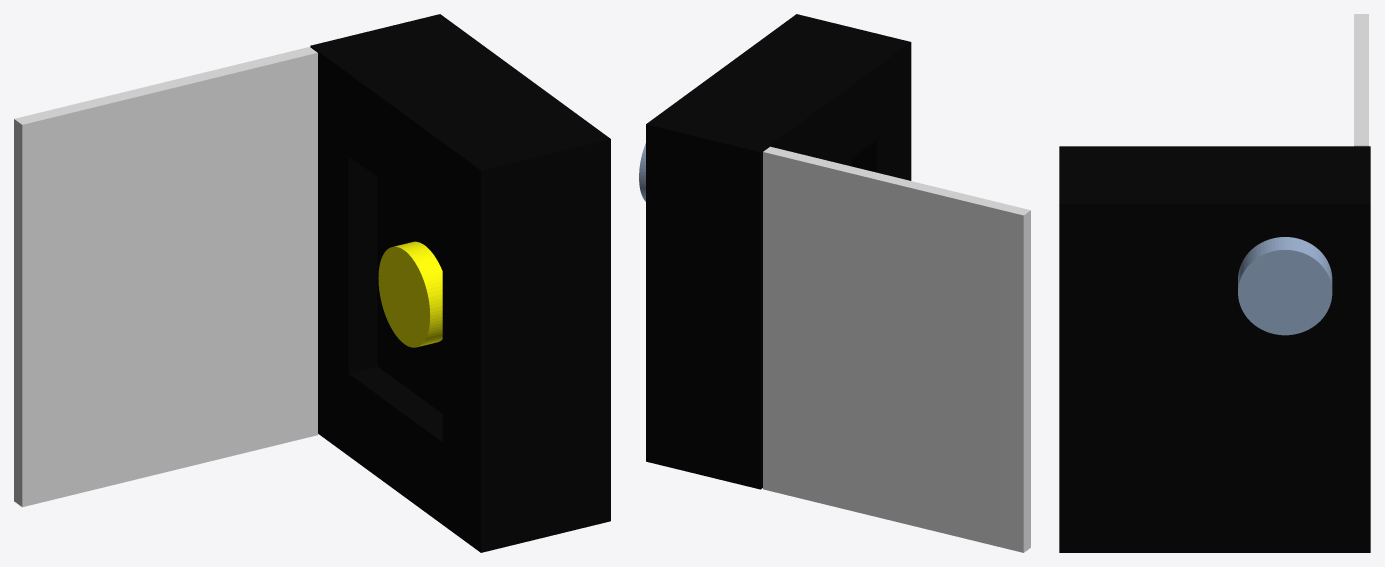
The model's file is TestButton.gltf.
3 renders of one model, left to right at view 1: azimuth 30°, elevation 25°; view 2: azimuth 150°, elevation 25°; view 3: azimuth 270°, elevation 25°, orthographic. The views are drawn at different scales.
Parts seen in each view (by area): view 1: body, cover, button1; view 2: cover, body; view 3: body, button2, cover.
Boxes of the visible parts, x1,y1,x2,y2 form: body: (310, 14, 610, 552); cover: (14, 47, 317, 507); button1: (378, 241, 442, 347); cover: (763, 146, 1030, 552); body: (646, 14, 911, 489); body: (1059, 146, 1370, 552); button2: (1238, 237, 1332, 335); cover: (1354, 14, 1368, 146).
Bounding box in the file's own units: 6.29 × 5.04 × 4.08.
